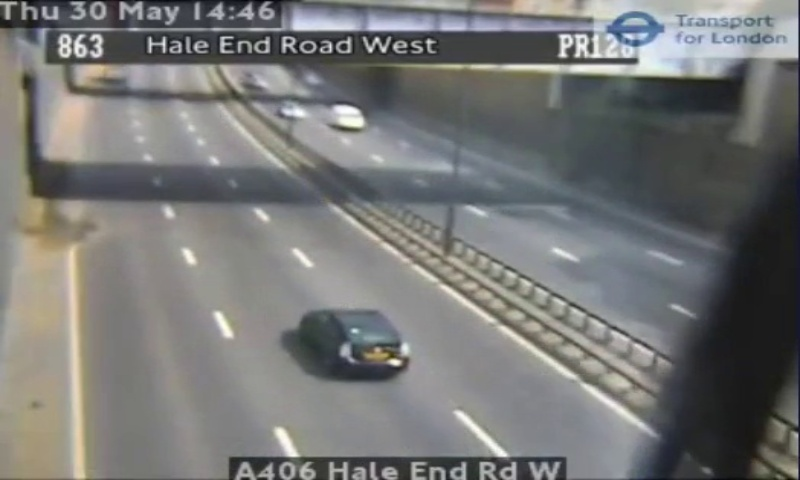car: (302, 309, 409, 373)
